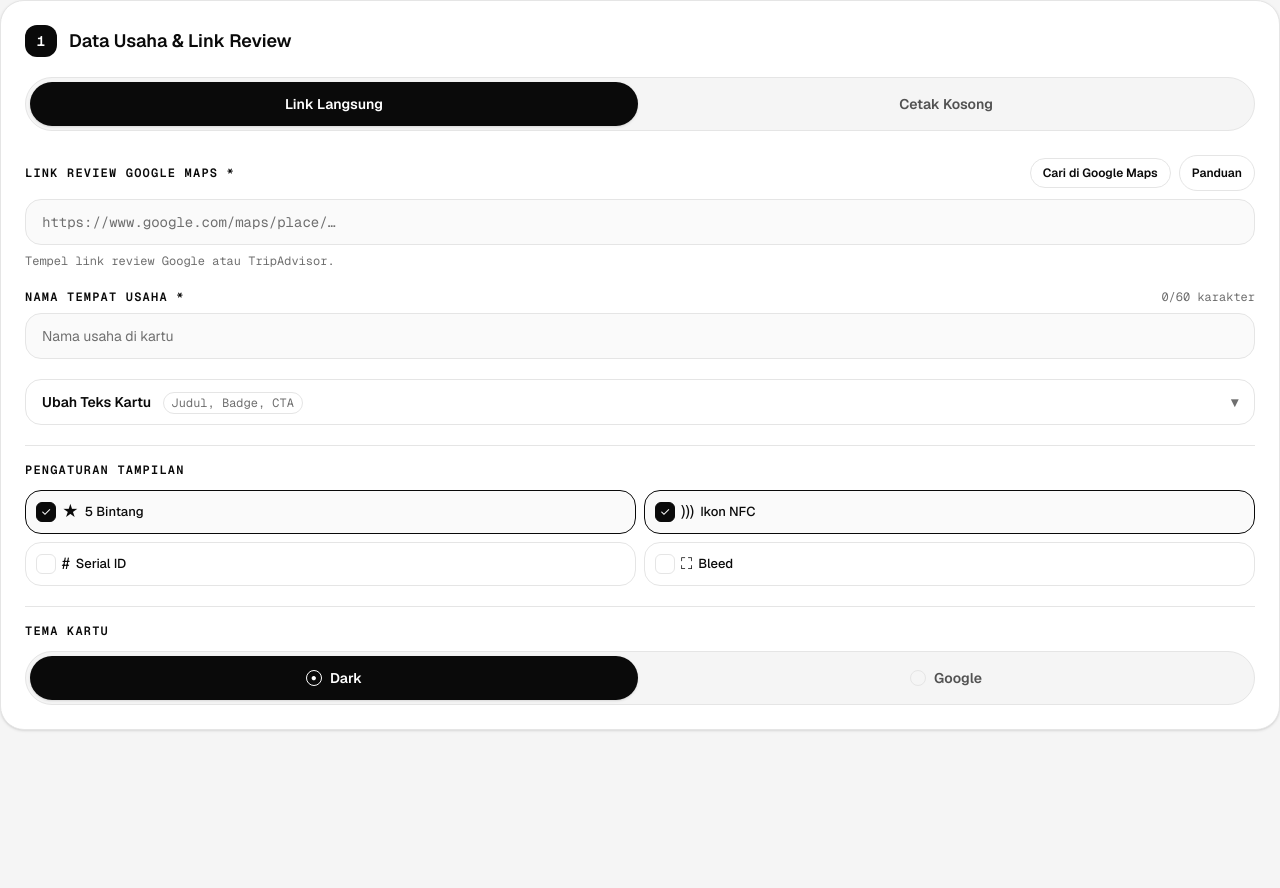
BusinessForm › pindah ke Cetak Kosong menampilkan ID dan target QR
Click the tab "Cetak Kosong". click: (946, 104)
box: [642,82,1250,126]
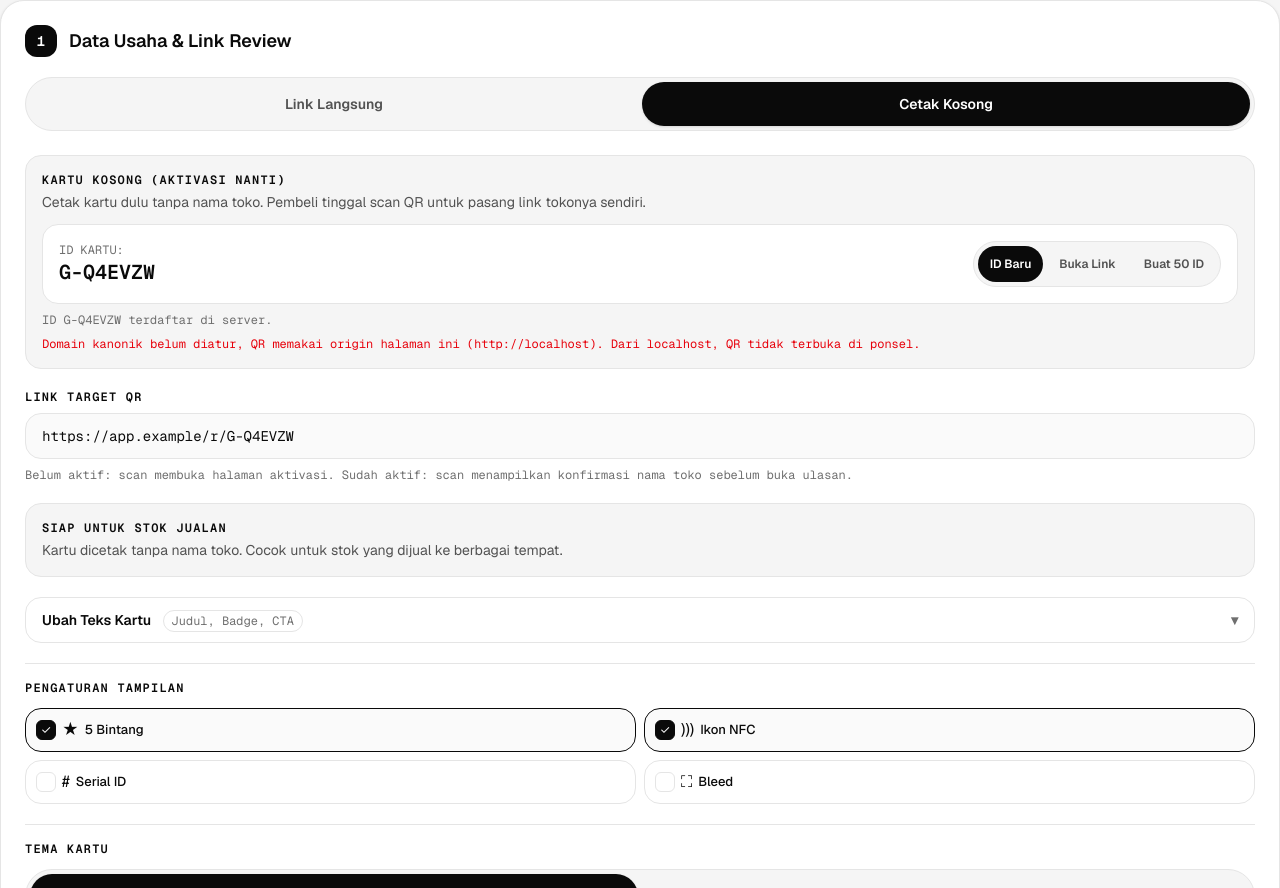
Expected: the text "Kartu kosong (aktivasi nanti)" is shown, [42,172,286,188]
